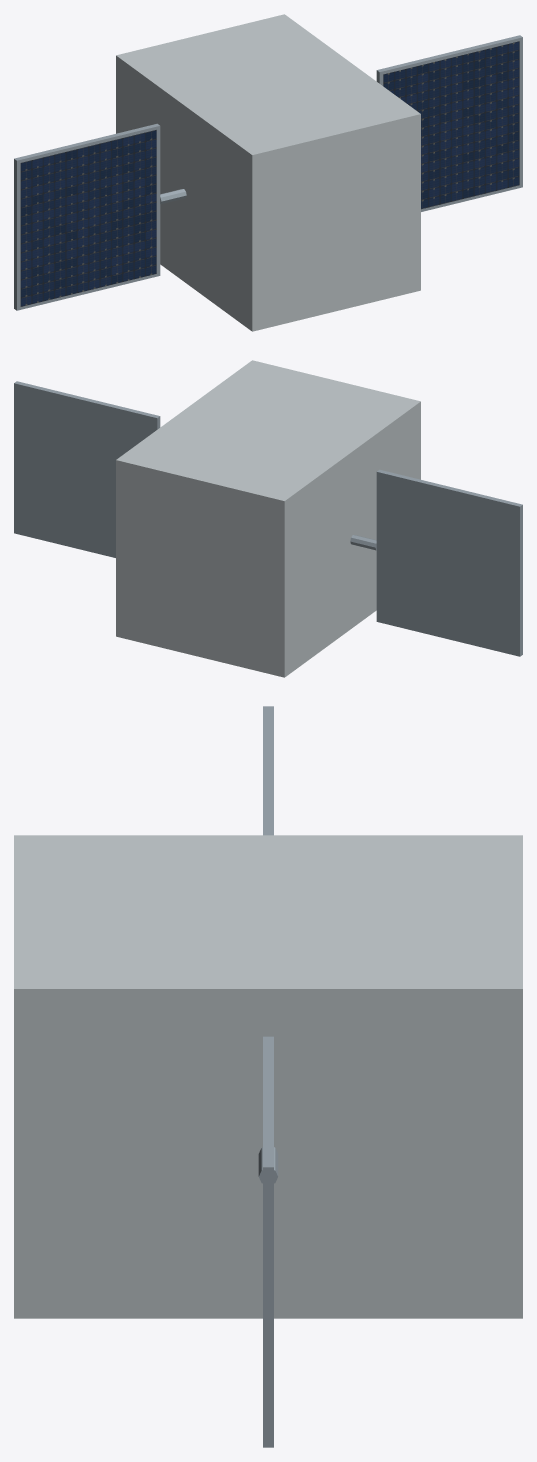
File: ref-hodoyoshi-40011.glb
3 views of the same model, one above another, from view 1: azimuth 30°, elevation 25°; view 2: azimuth 150°, elevation 25°; view 3: azimuth 270°, elevation 25° (orthographic). The views are drawn at different scales.
Parts seen in each view (by area): view 1: Spacecraft body, Photovoltaic laminates (×2), Array frame (×2); view 2: Spacecraft body, Array frame (×2); view 3: Spacecraft body, Array frame (×2).
Part boxes in pixels (left/top/right/bottom): Spacecraft body: left=116, top=14, right=420, bottom=331; Photovoltaic laminates (×2): left=20, top=41, right=519, bottom=306; Array frame (×2): left=14, top=35, right=522, bottom=310; Spacecraft body: left=116, top=360, right=420, bottom=677; Array frame (×2): left=14, top=381, right=522, bottom=656; Spacecraft body: left=14, top=835, right=522, bottom=1318; Array frame (×2): left=263, top=706, right=273, bottom=1447.
Size of the model in its own units: 1.5 by 0.5 by 0.7.
Materials: 3 (1 with a texture image).
